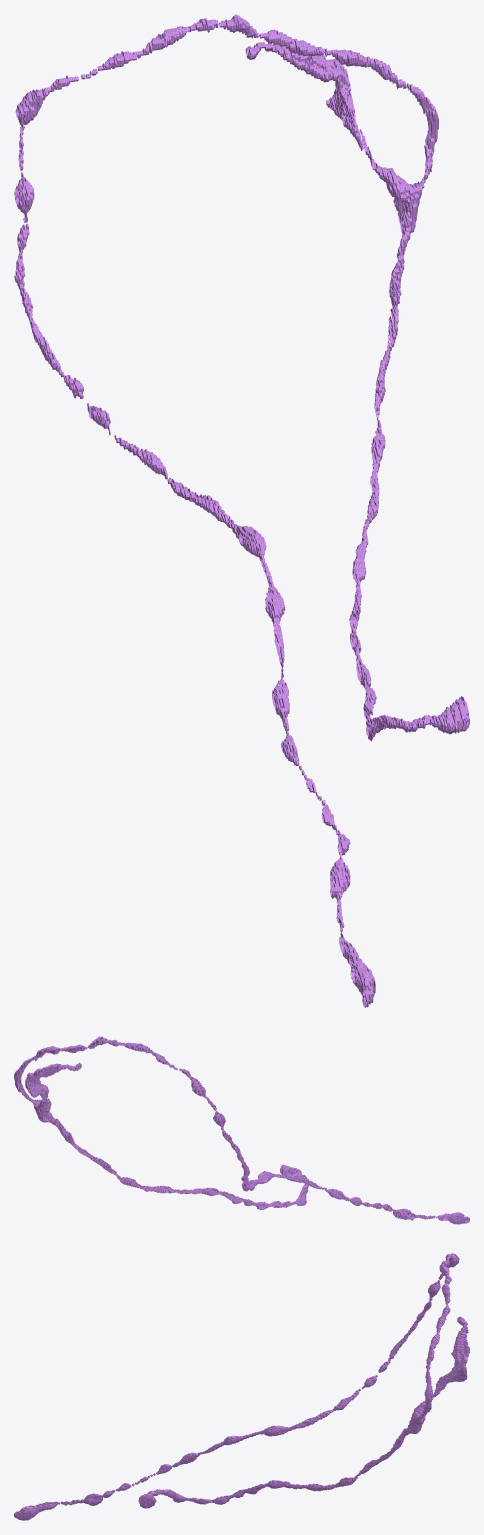
File: SVV_SIBVR.gltf
The picture shows the model from 3 angles, top to bottom: view 1: azimuth 30°, elevation 25°; view 2: azimuth 150°, elevation 25°; view 3: azimuth 270°, elevation 25°; orthographic projection. The views are drawn at different scales.
Visible parts, largest first — view 1: SIBVR; view 2: SIBVR; view 3: SIBVR.
Boxes of the visible parts, x1,y1,x2,y2 form: SIBVR: (14,14,469,1007); SIBVR: (14,1036,469,1224); SIBVR: (14,1253,469,1520).
Size of the model in its own units: 136068 by 162938 by 220009.
